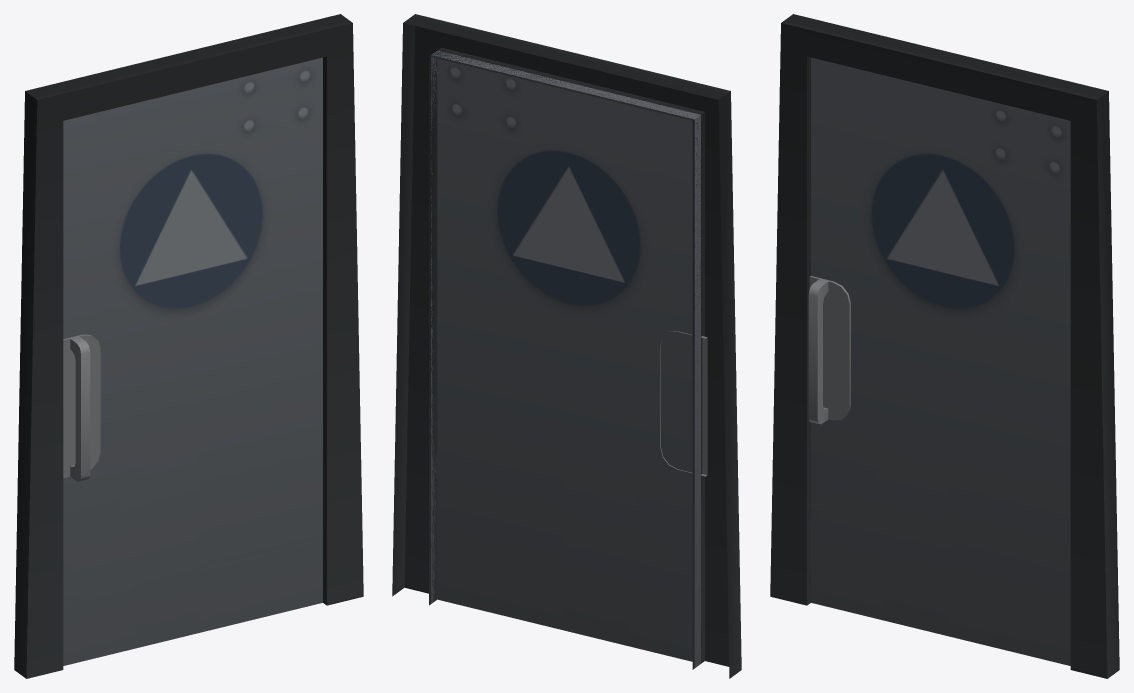
File: Restroomdoor.fbx
3 renders of one model, left to right at view 1: azimuth 30°, elevation 25°; view 2: azimuth 150°, elevation 25°; view 3: azimuth 330°, elevation 25°, orthographic.
Parts seen in each view (by area): view 1: RestroomDoor; view 2: RestroomDoor; view 3: RestroomDoor.
Boxes of the visible parts, <box> form: RestroomDoor: <box>14,14,363,678</box>; RestroomDoor: <box>392,14,741,678</box>; RestroomDoor: <box>770,14,1119,678</box>.
Size of the model in its own units: 2.9 by 4.73 by 0.3037.
Materials: 1 (1 with a texture image).
